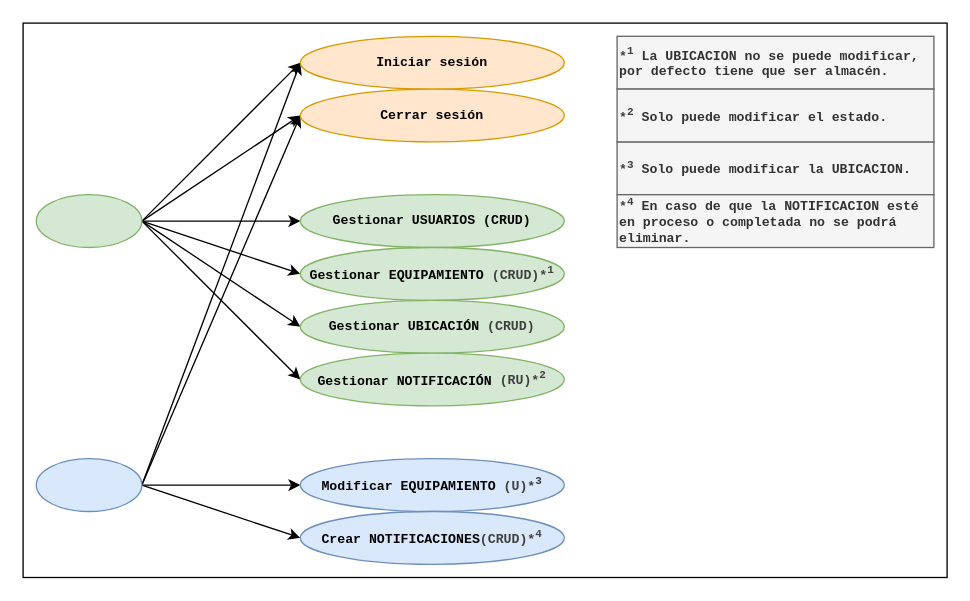
This 970x601 diagram has some shape labels left out. Each missing label, with the centre of its shape:
"ADMIN (PC)" goes at [88,220].
"CONSERJE (TLF )" goes at [88,484].
